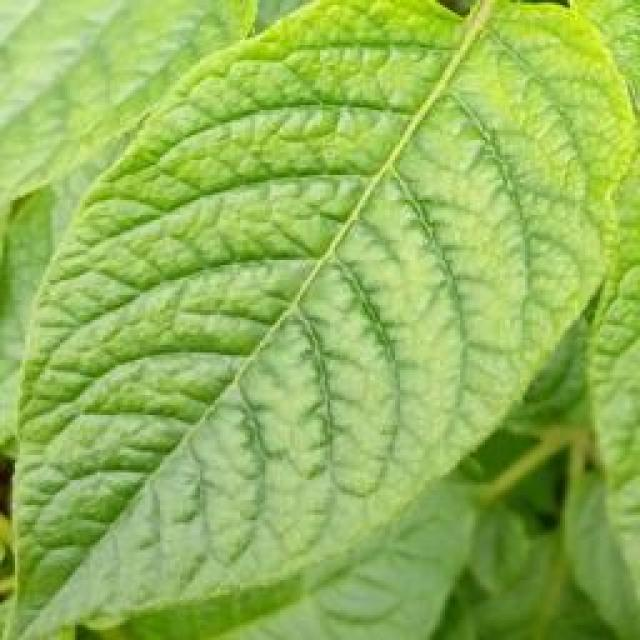healthy: (2, 0, 638, 638)
